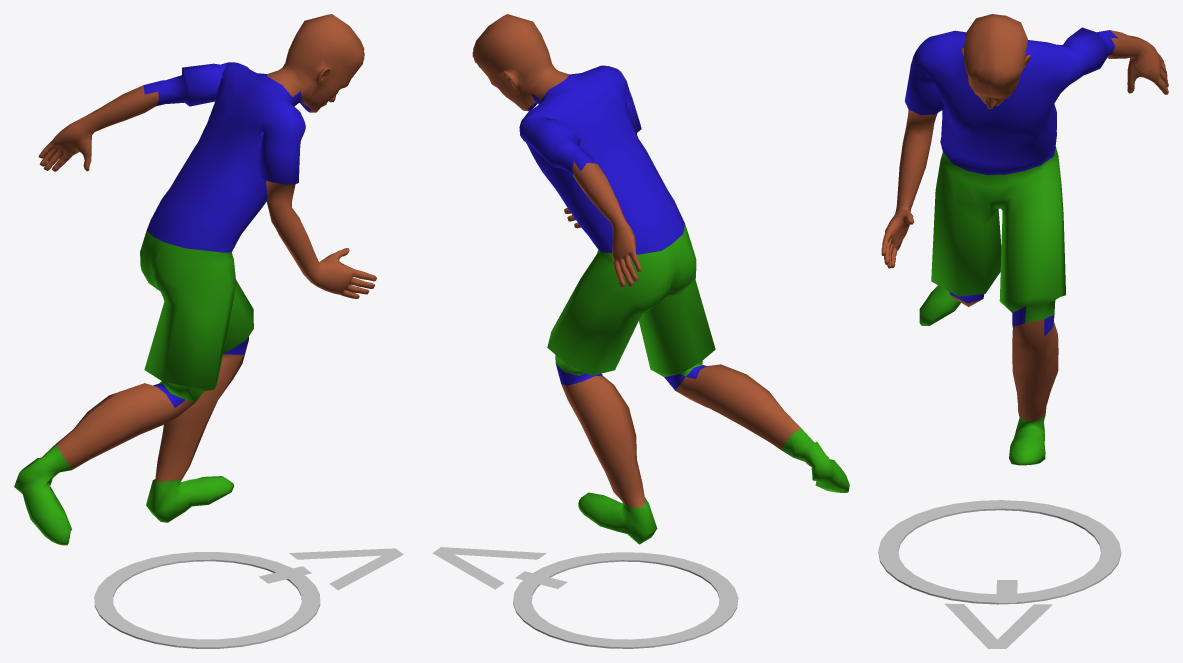
Rendered from playerAI_000010.obj.
3 renders of one model, left to right at view 1: azimuth 30°, elevation 25°; view 2: azimuth 150°, elevation 25°; view 3: azimuth 270°, elevation 25°, orthographic. The views are drawn at different scales.
Visible parts, largest first — view 1: soccerplayer.003_mesh.002, Circle.001, Text_Mesh; view 2: soccerplayer.003_mesh.002, Circle.001, Text_Mesh; view 3: soccerplayer.003_mesh.002, Circle.001, Text_Mesh.
Boxes of the visible parts, x1,y1,x2,y2 form: soccerplayer.003_mesh.002: (14, 14, 376, 545); Circle.001: (94, 552, 320, 648); Text_Mesh: (259, 548, 403, 590); soccerplayer.003_mesh.002: (472, 14, 849, 544); Circle.001: (513, 552, 738, 648); Text_Mesh: (432, 547, 567, 589); soccerplayer.003_mesh.002: (881, 14, 1168, 465); Circle.001: (878, 500, 1121, 604); Text_Mesh: (945, 580, 1052, 648).
Bounding box in the file's own units: 2.18 × 2.95 × 1.3.
